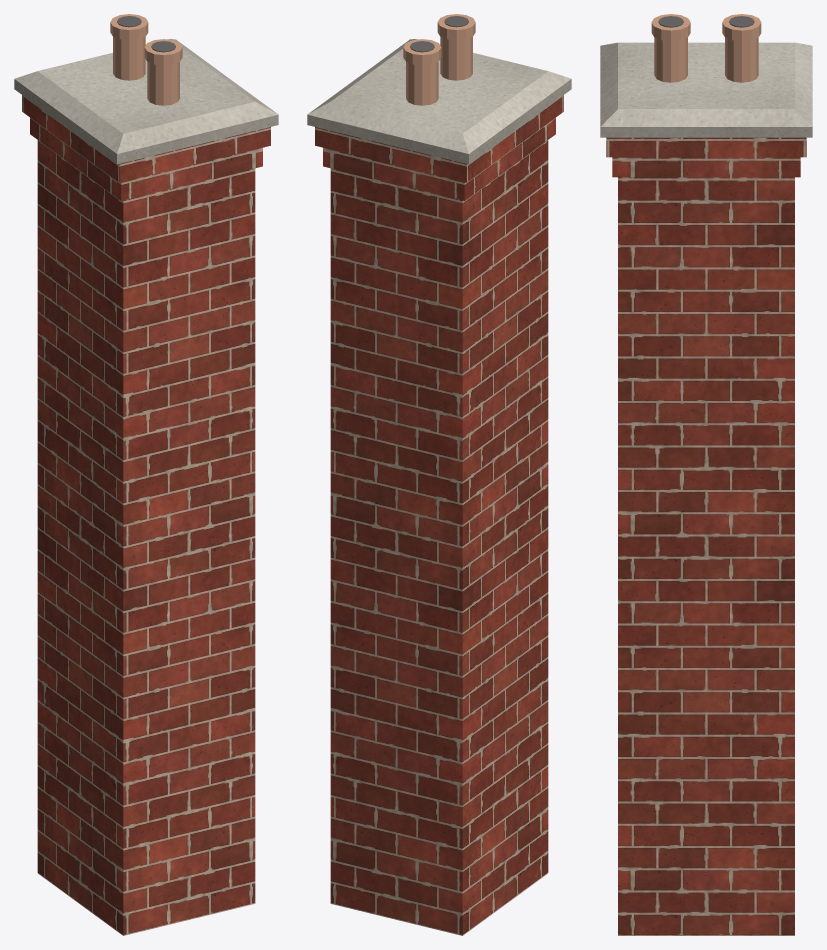
The model's file is chimney_stack.glb.
3 views of the same model, side by side, from view 1: azimuth 30°, elevation 25°; view 2: azimuth 150°, elevation 25°; view 3: azimuth 270°, elevation 25° (orthographic). The views are drawn at different scales.
Visible parts, largest first — view 1: chimney_stack_brick, chimney_stack_cap, chimney_stack_clay; view 2: chimney_stack_brick, chimney_stack_cap, chimney_stack_clay; view 3: chimney_stack_brick, chimney_stack_cap, chimney_stack_clay, chimney_stack_dark.
Part boxes in pixels (x1,y1,x2,y2): chimney_stack_brick: (22, 95, 270, 935); chimney_stack_cap: (14, 39, 278, 164); chimney_stack_clay: (110, 14, 182, 105); chimney_stack_brick: (315, 95, 563, 935); chimney_stack_cap: (307, 39, 571, 164); chimney_stack_clay: (403, 14, 475, 105); chimney_stack_brick: (606, 137, 806, 935); chimney_stack_cap: (600, 42, 812, 137); chimney_stack_clay: (651, 14, 761, 82); chimney_stack_dark: (658, 16, 754, 27).
Size of the model in its own units: 0.98 by 4.95 by 1.08.
Materials: 4 (2 with a texture image).
